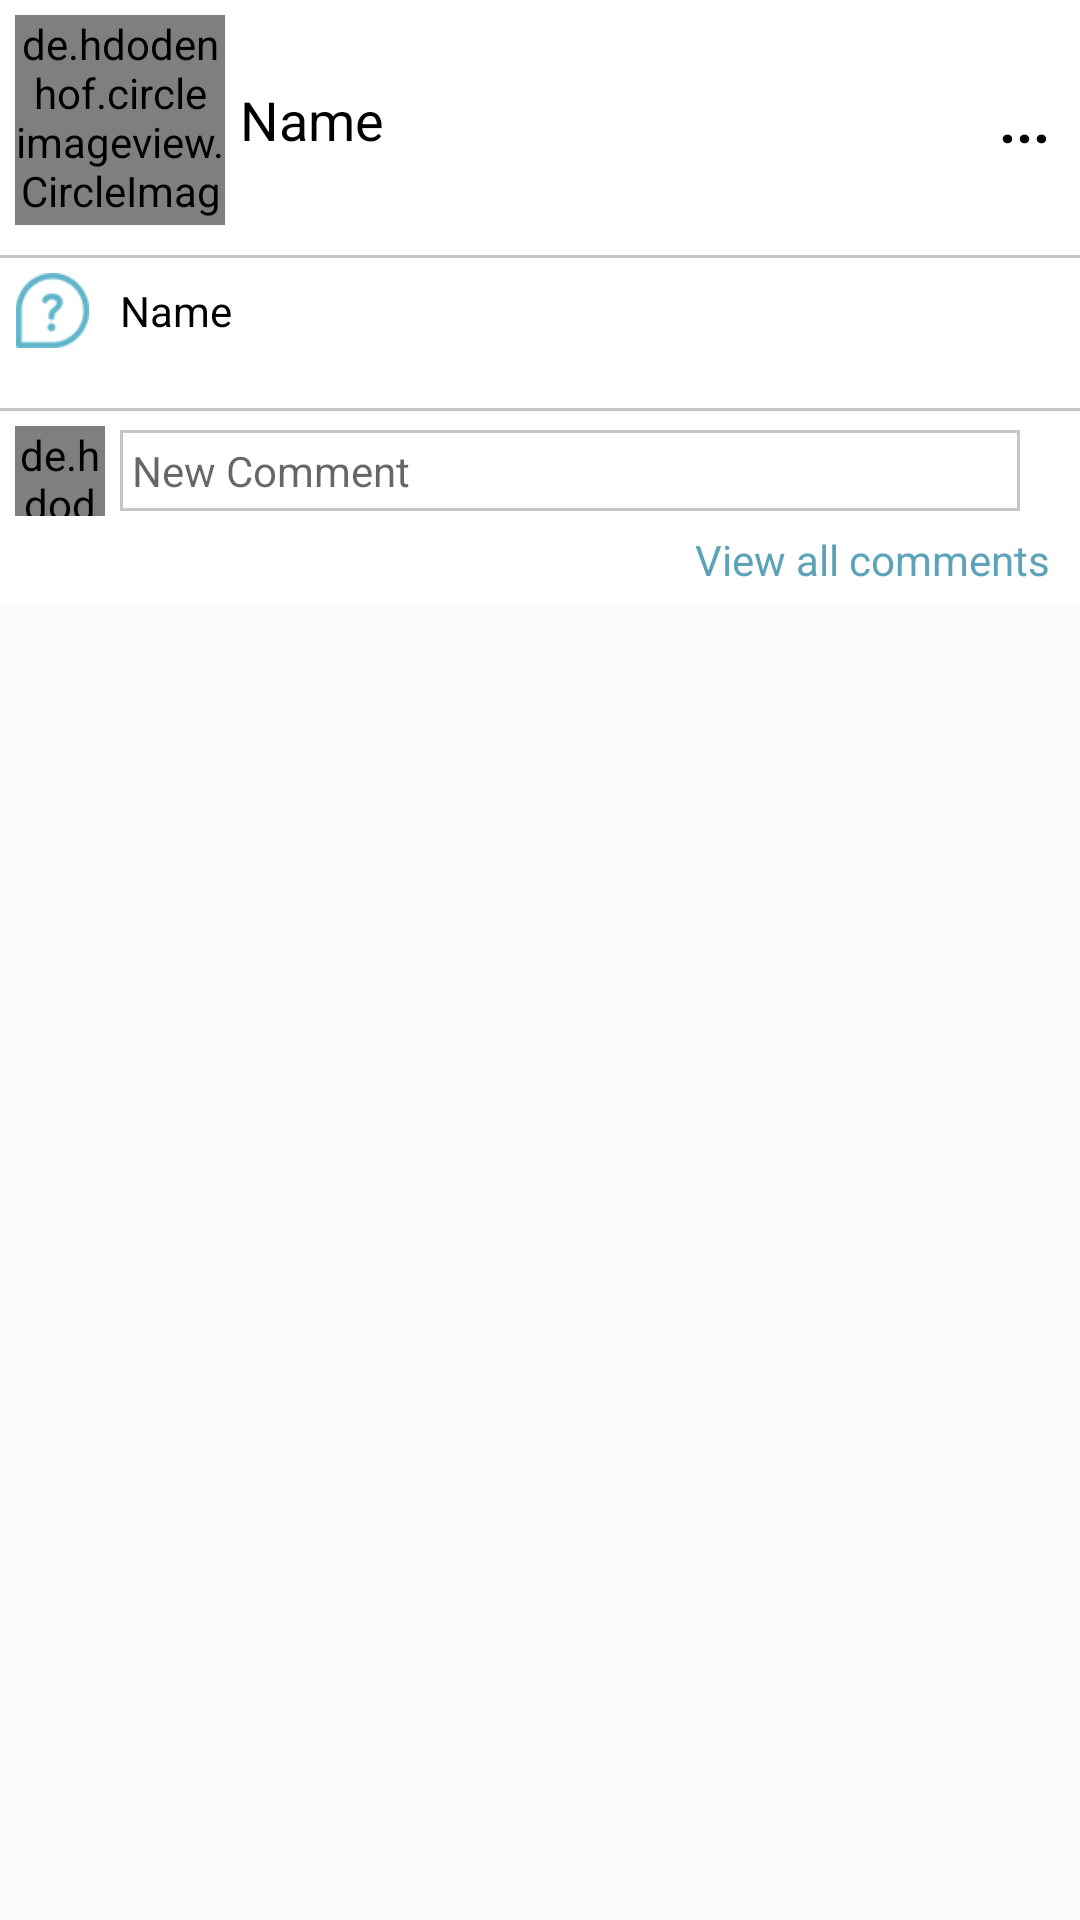

Screen size 1080 × 1920. Icon name, then its center in pixels as (x=x, y=y):
question mark: (x=52, y=310)
